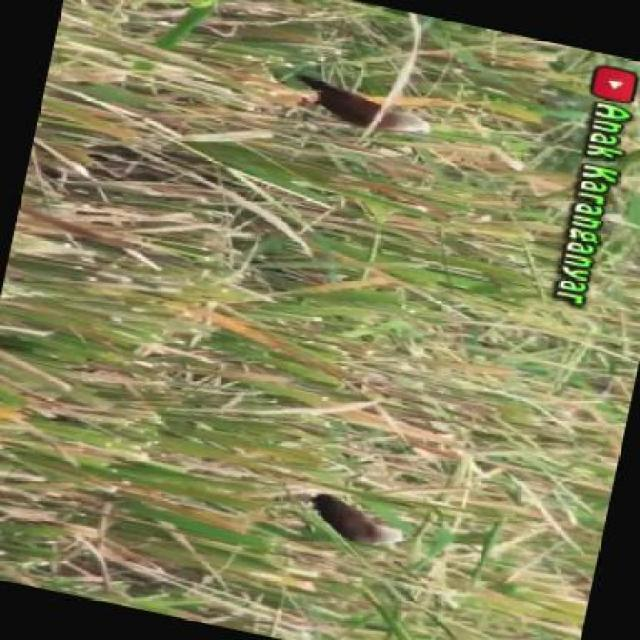Bird: (287, 67, 433, 153), (301, 489, 413, 566)
